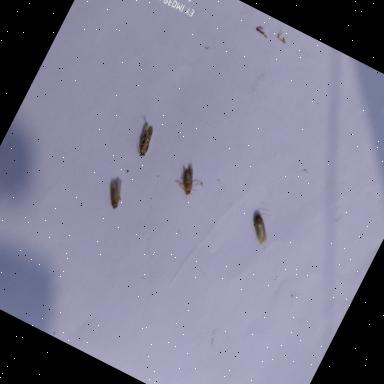pbw: (164, 156, 214, 210), (239, 202, 283, 252), (124, 112, 164, 164), (95, 168, 135, 215)
